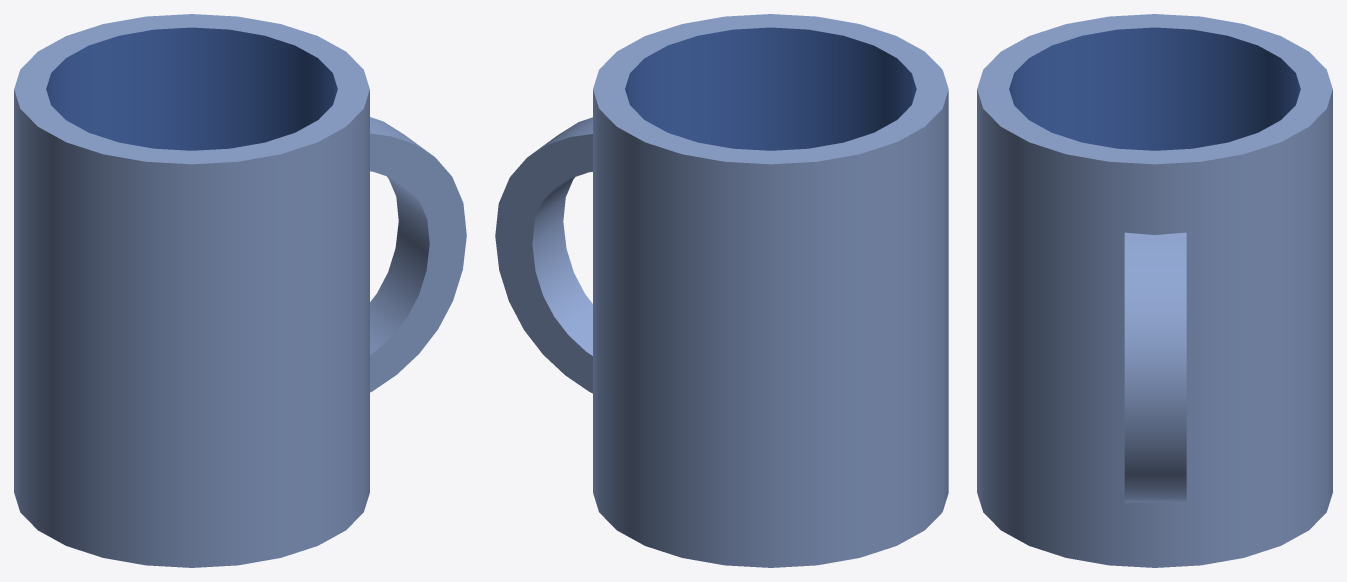
Rendered from Cup A.fbx.
3 renders of one model, left to right at view 1: azimuth 30°, elevation 25°; view 2: azimuth 150°, elevation 25°; view 3: azimuth 270°, elevation 25°, orthographic.
Parts seen in each view (by area): view 1: Cup.002; view 2: Cup.002; view 3: Cup.002.
Boxes of the visible parts, left/top/right/bottom form: Cup.002: left=14, top=14, right=466, bottom=567; Cup.002: left=495, top=14, right=948, bottom=567; Cup.002: left=977, top=14, right=1332, bottom=567.
Bounding box in the file's own units: 0.3029 × 0.2823 × 0.2255.
